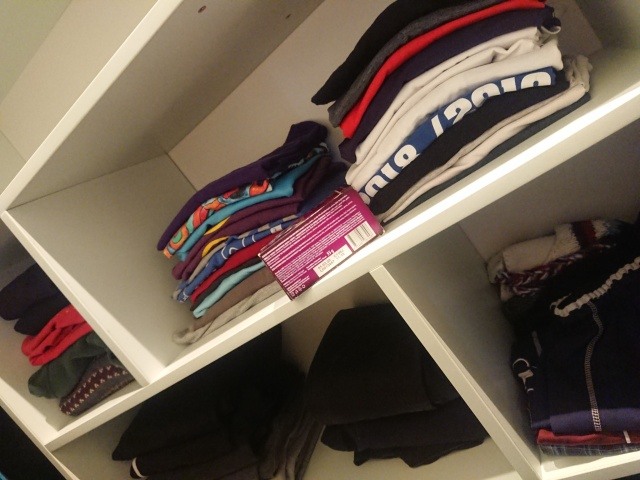Franck Black Currant Tea 60g: (255, 181, 388, 303)
